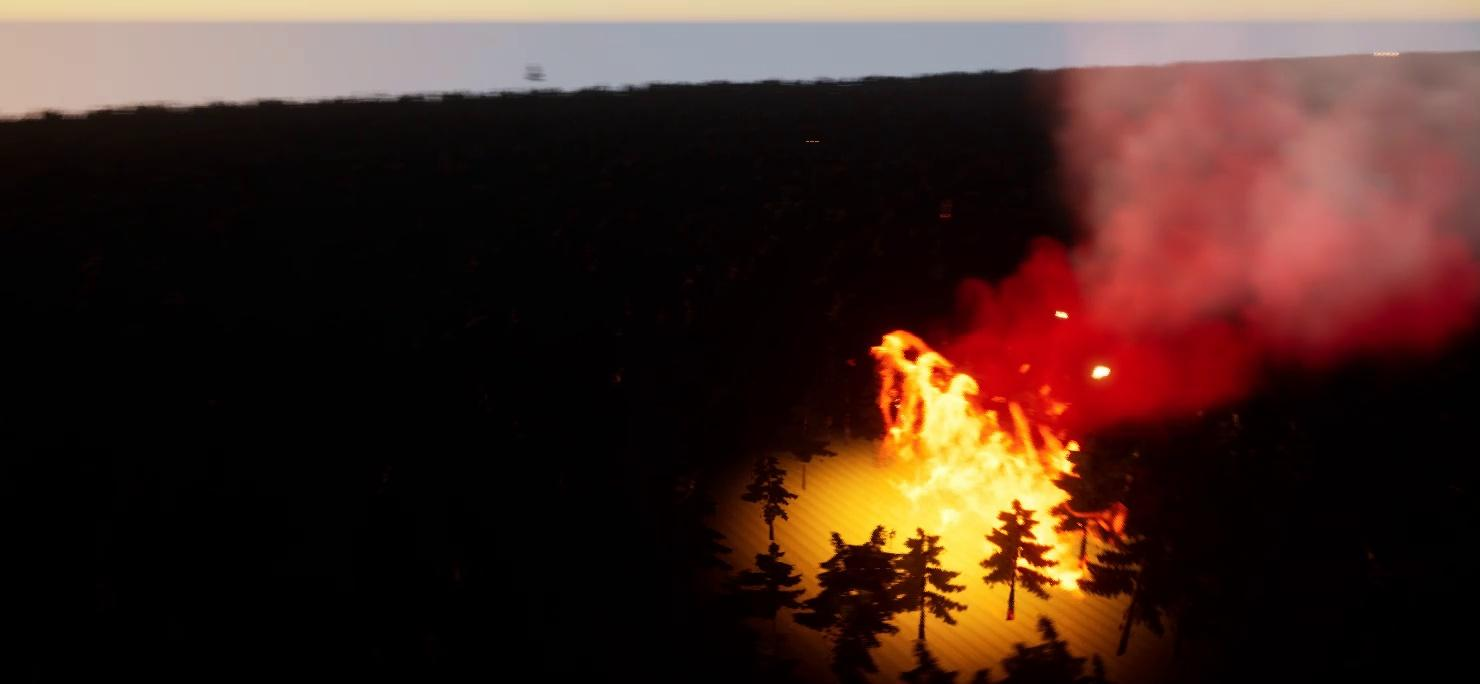fire: (864, 332, 1099, 584)
smoke: (949, 22, 1479, 424)
